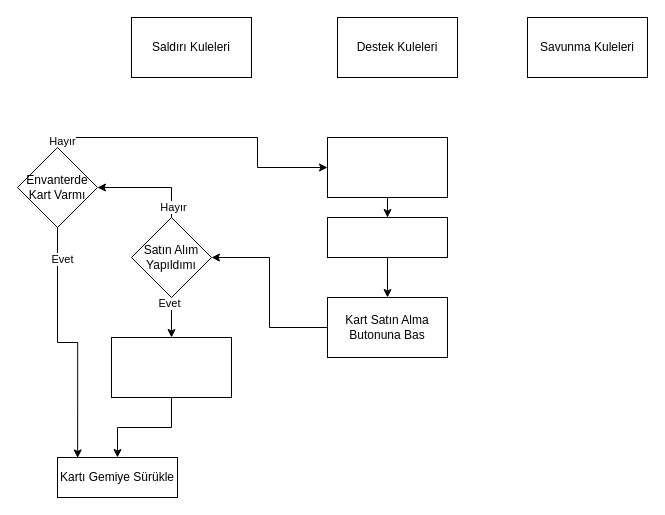
This 665x515 diagram has some shape labels left out. Here are the shapes that lost their labels. From the top down, the centre of each, then its label:
the point at 387,167: Başla
the point at 387,237: Envantere Git
the point at 171,367: Envantere İstenilen Kartı Ekle Butonunun Üstüne Ekle
